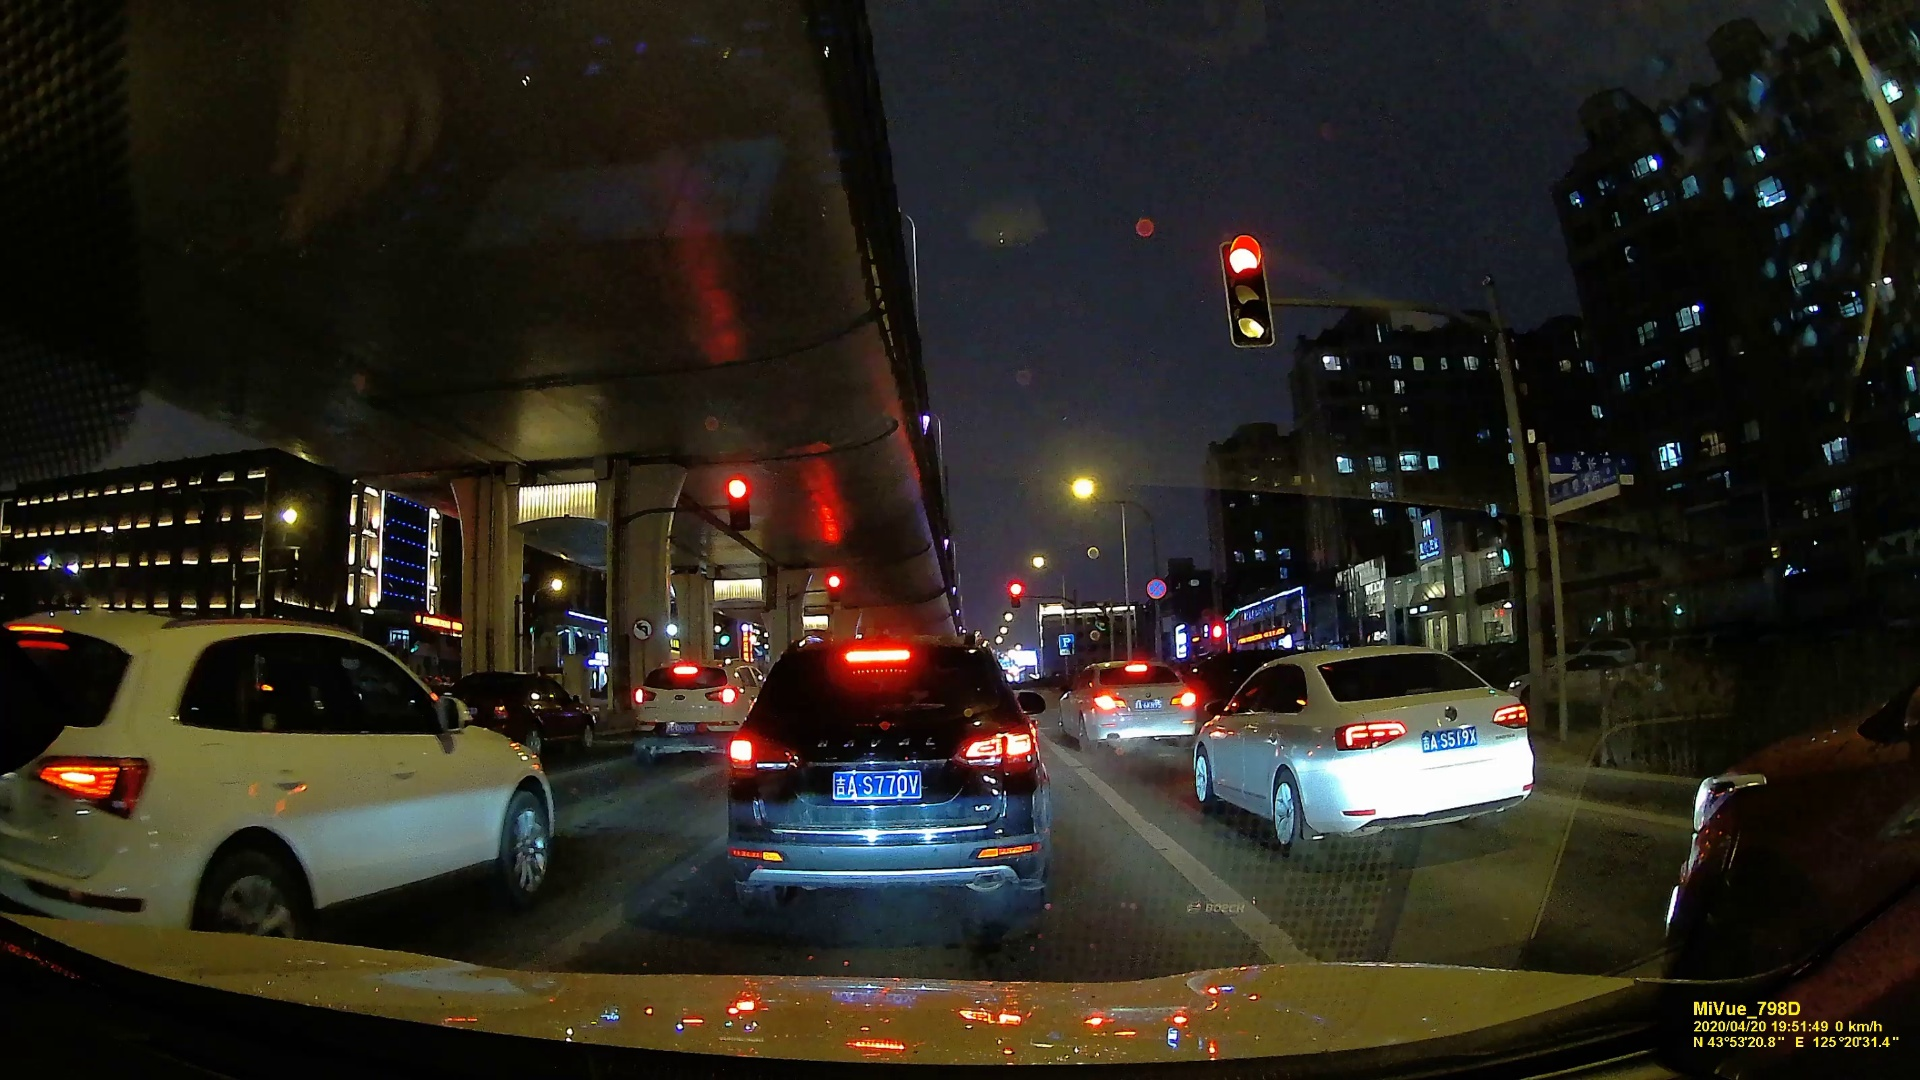traffic_sign: (1222, 233, 1280, 349), (721, 473, 749, 526), (632, 617, 654, 641), (1145, 578, 1168, 599), (1007, 582, 1025, 609), (825, 572, 843, 600), (1058, 633, 1076, 654)
vehicle: (8, 616, 545, 928), (727, 632, 1044, 930), (1189, 654, 1536, 852), (1058, 655, 1197, 756), (442, 669, 603, 752), (636, 655, 746, 744)
